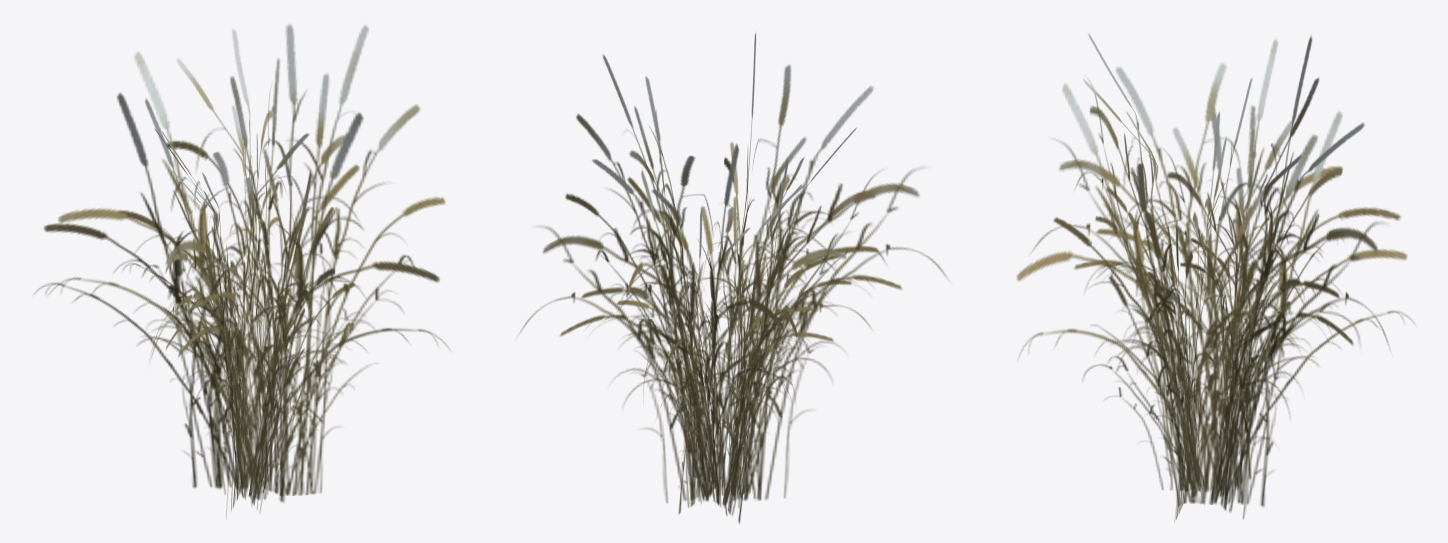
File: ichu_15_nieve.glb
3 views of the same model, side by side, from view 1: azimuth 30°, elevation 25°; view 2: azimuth 150°, elevation 25°; view 3: azimuth 270°, elevation 25° (orthographic). The views are drawn at different scales.
Visible parts, largest first — view 1: Ichu; view 2: Ichu; view 3: Ichu.
Boxes of the visible parts, x1,y1,x2,y2 form: Ichu: (35, 24, 448, 518); Ichu: (519, 32, 947, 523); Ichu: (1016, 33, 1414, 521).
Bounding box in the file's own units: 0.4834 × 0.56 × 0.4765.
1 material, 1 textured.
